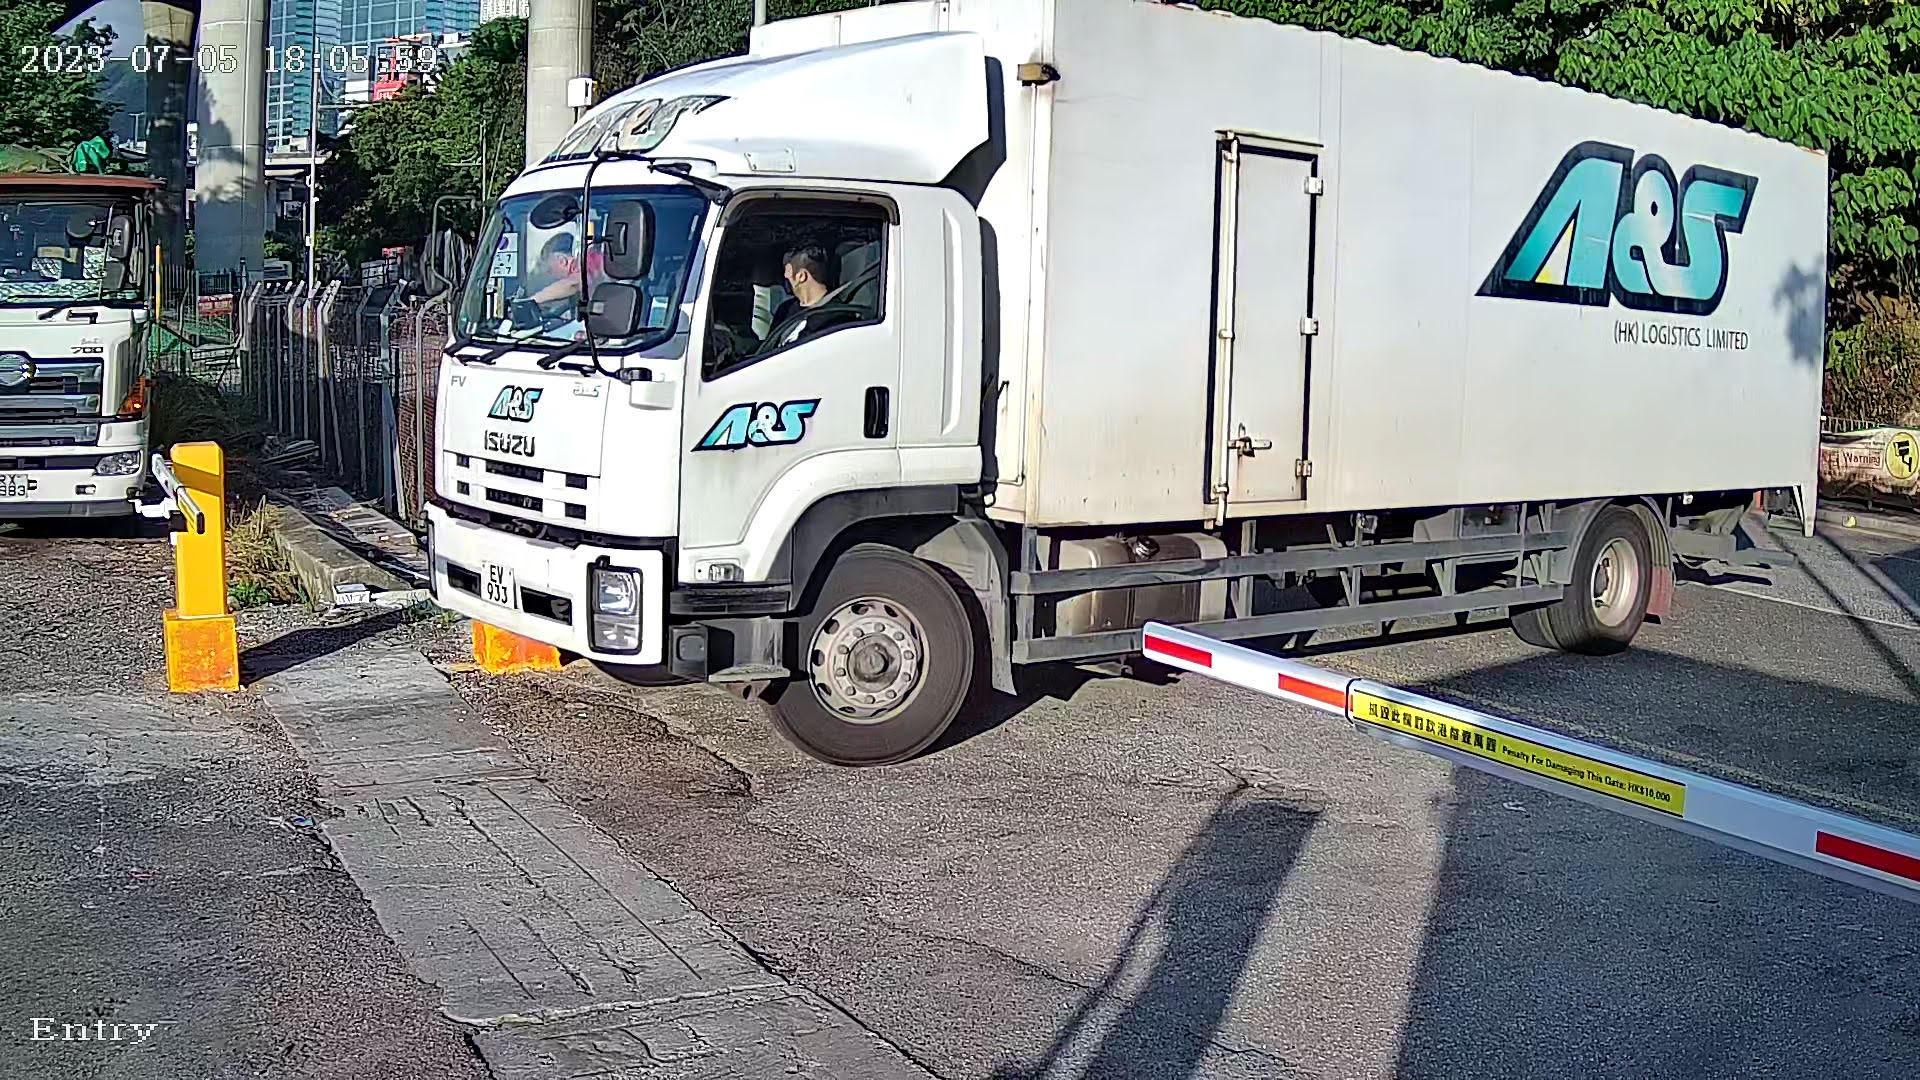truck_large: (361, 1, 1840, 829)
